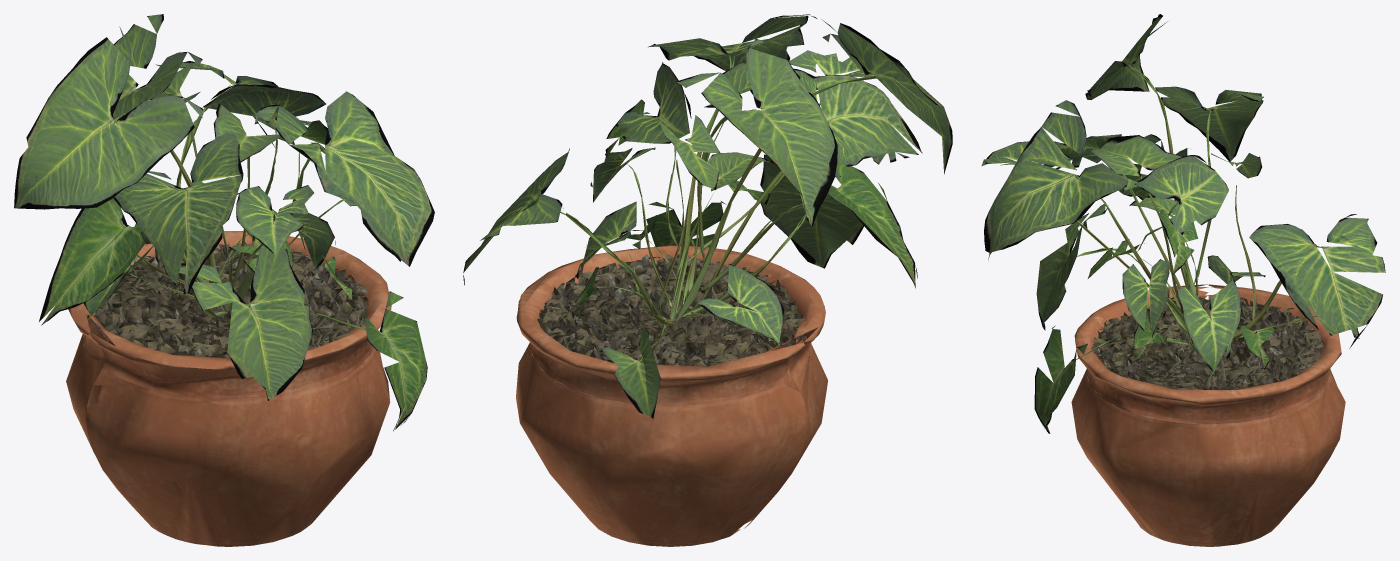
File: plant_groot.glb
The picture shows the model from 3 angles, left to right: view 1: azimuth 30°, elevation 25°; view 2: azimuth 150°, elevation 25°; view 3: azimuth 270°, elevation 25°; orthographic projection. The views are drawn at different scales.
Size of the model in its own units: 0.858 by 1.1 by 0.9094.
Materials: 3 (3 with a texture image).
